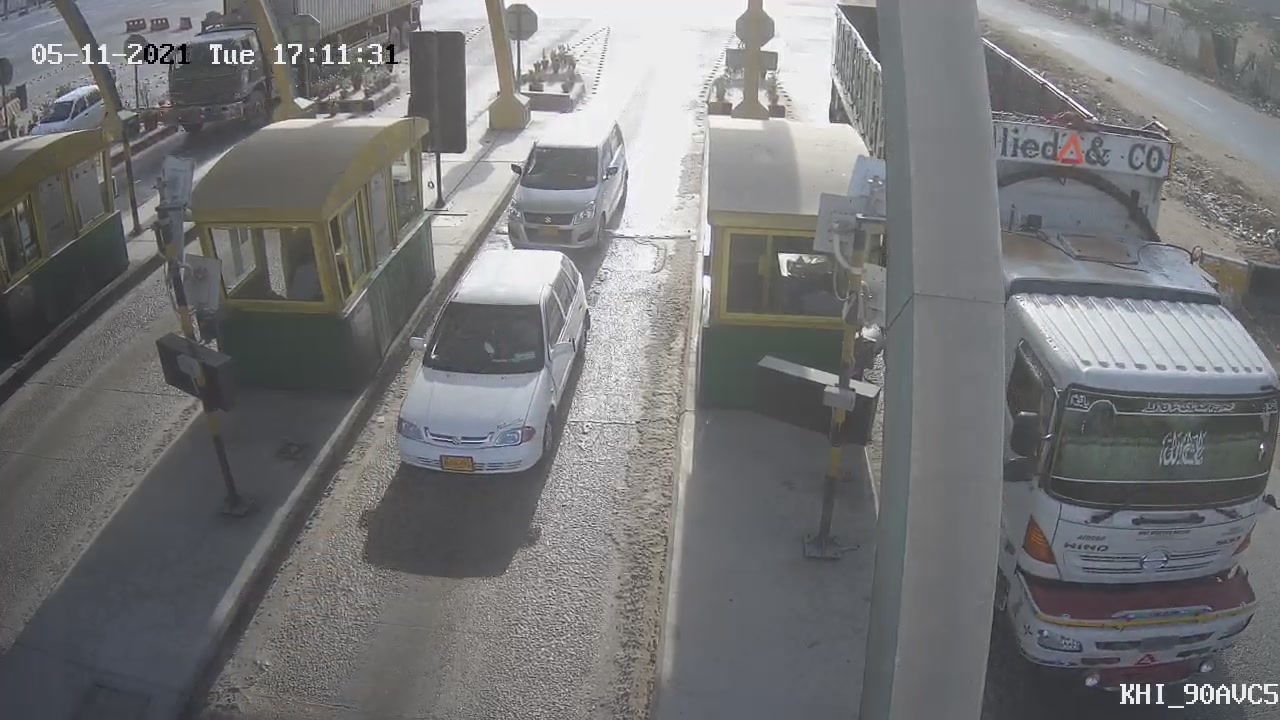F1: (377, 234, 603, 495), (491, 107, 644, 275)
